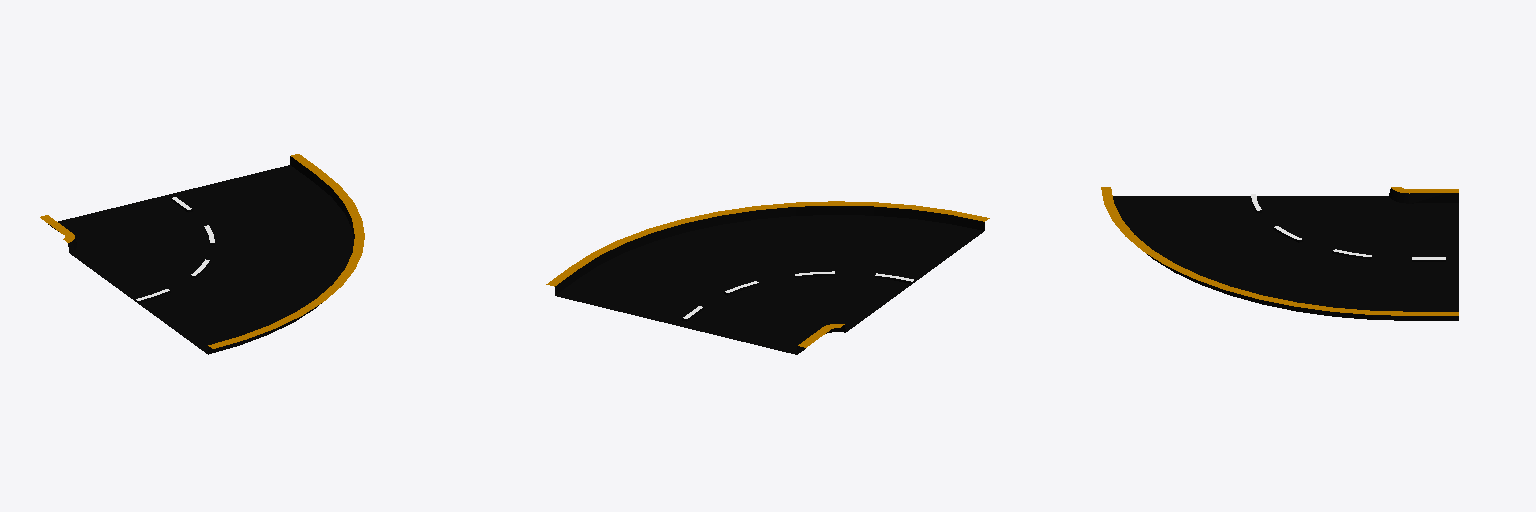
The model's file is road7_reto.obj.
The picture shows the model from 3 angles: view 1: azimuth 30°, elevation 25°; view 2: azimuth 150°, elevation 25°; view 3: azimuth 270°, elevation 25°; orthographic projection.
Parts seen in each view (by area): view 1: Plane.001; view 2: Plane.001; view 3: Plane.001.
Part boxes in pixels (left/top/right/bottom): Plane.001: left=40, top=154, right=364, bottom=354; Plane.001: left=546, top=201, right=989, bottom=354; Plane.001: left=1101, top=187, right=1458, bottom=320.
Bounding box in the file's own units: 6.01 × 0.2 × 7.04.